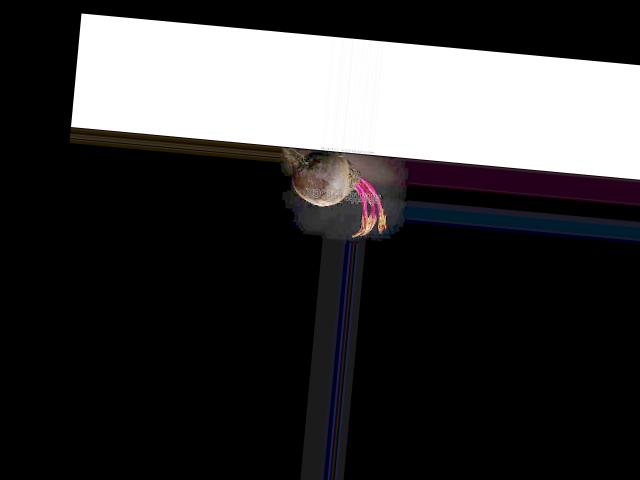beet: (272, 146, 392, 239)
